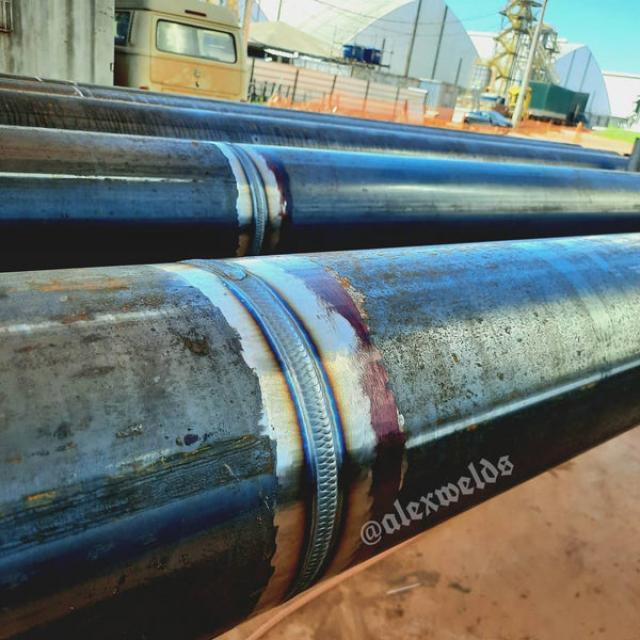Good Weld: (270, 340, 342, 580), (217, 269, 294, 332), (239, 148, 266, 245)
